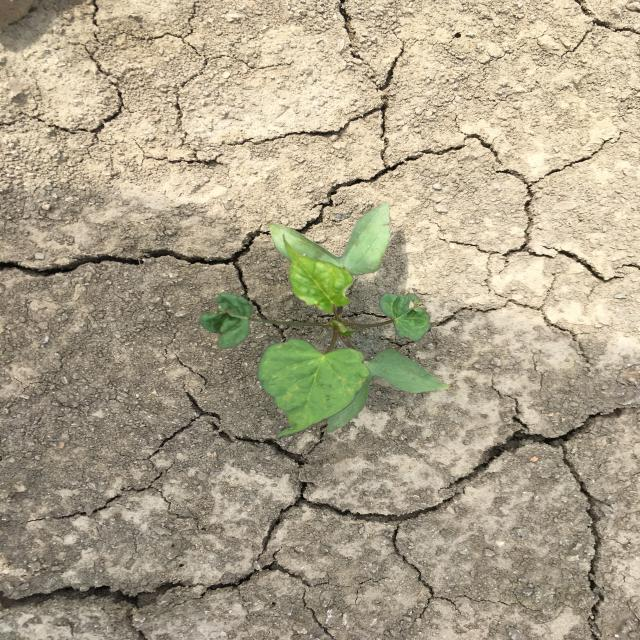MorningGlory: (198, 201, 452, 438)
